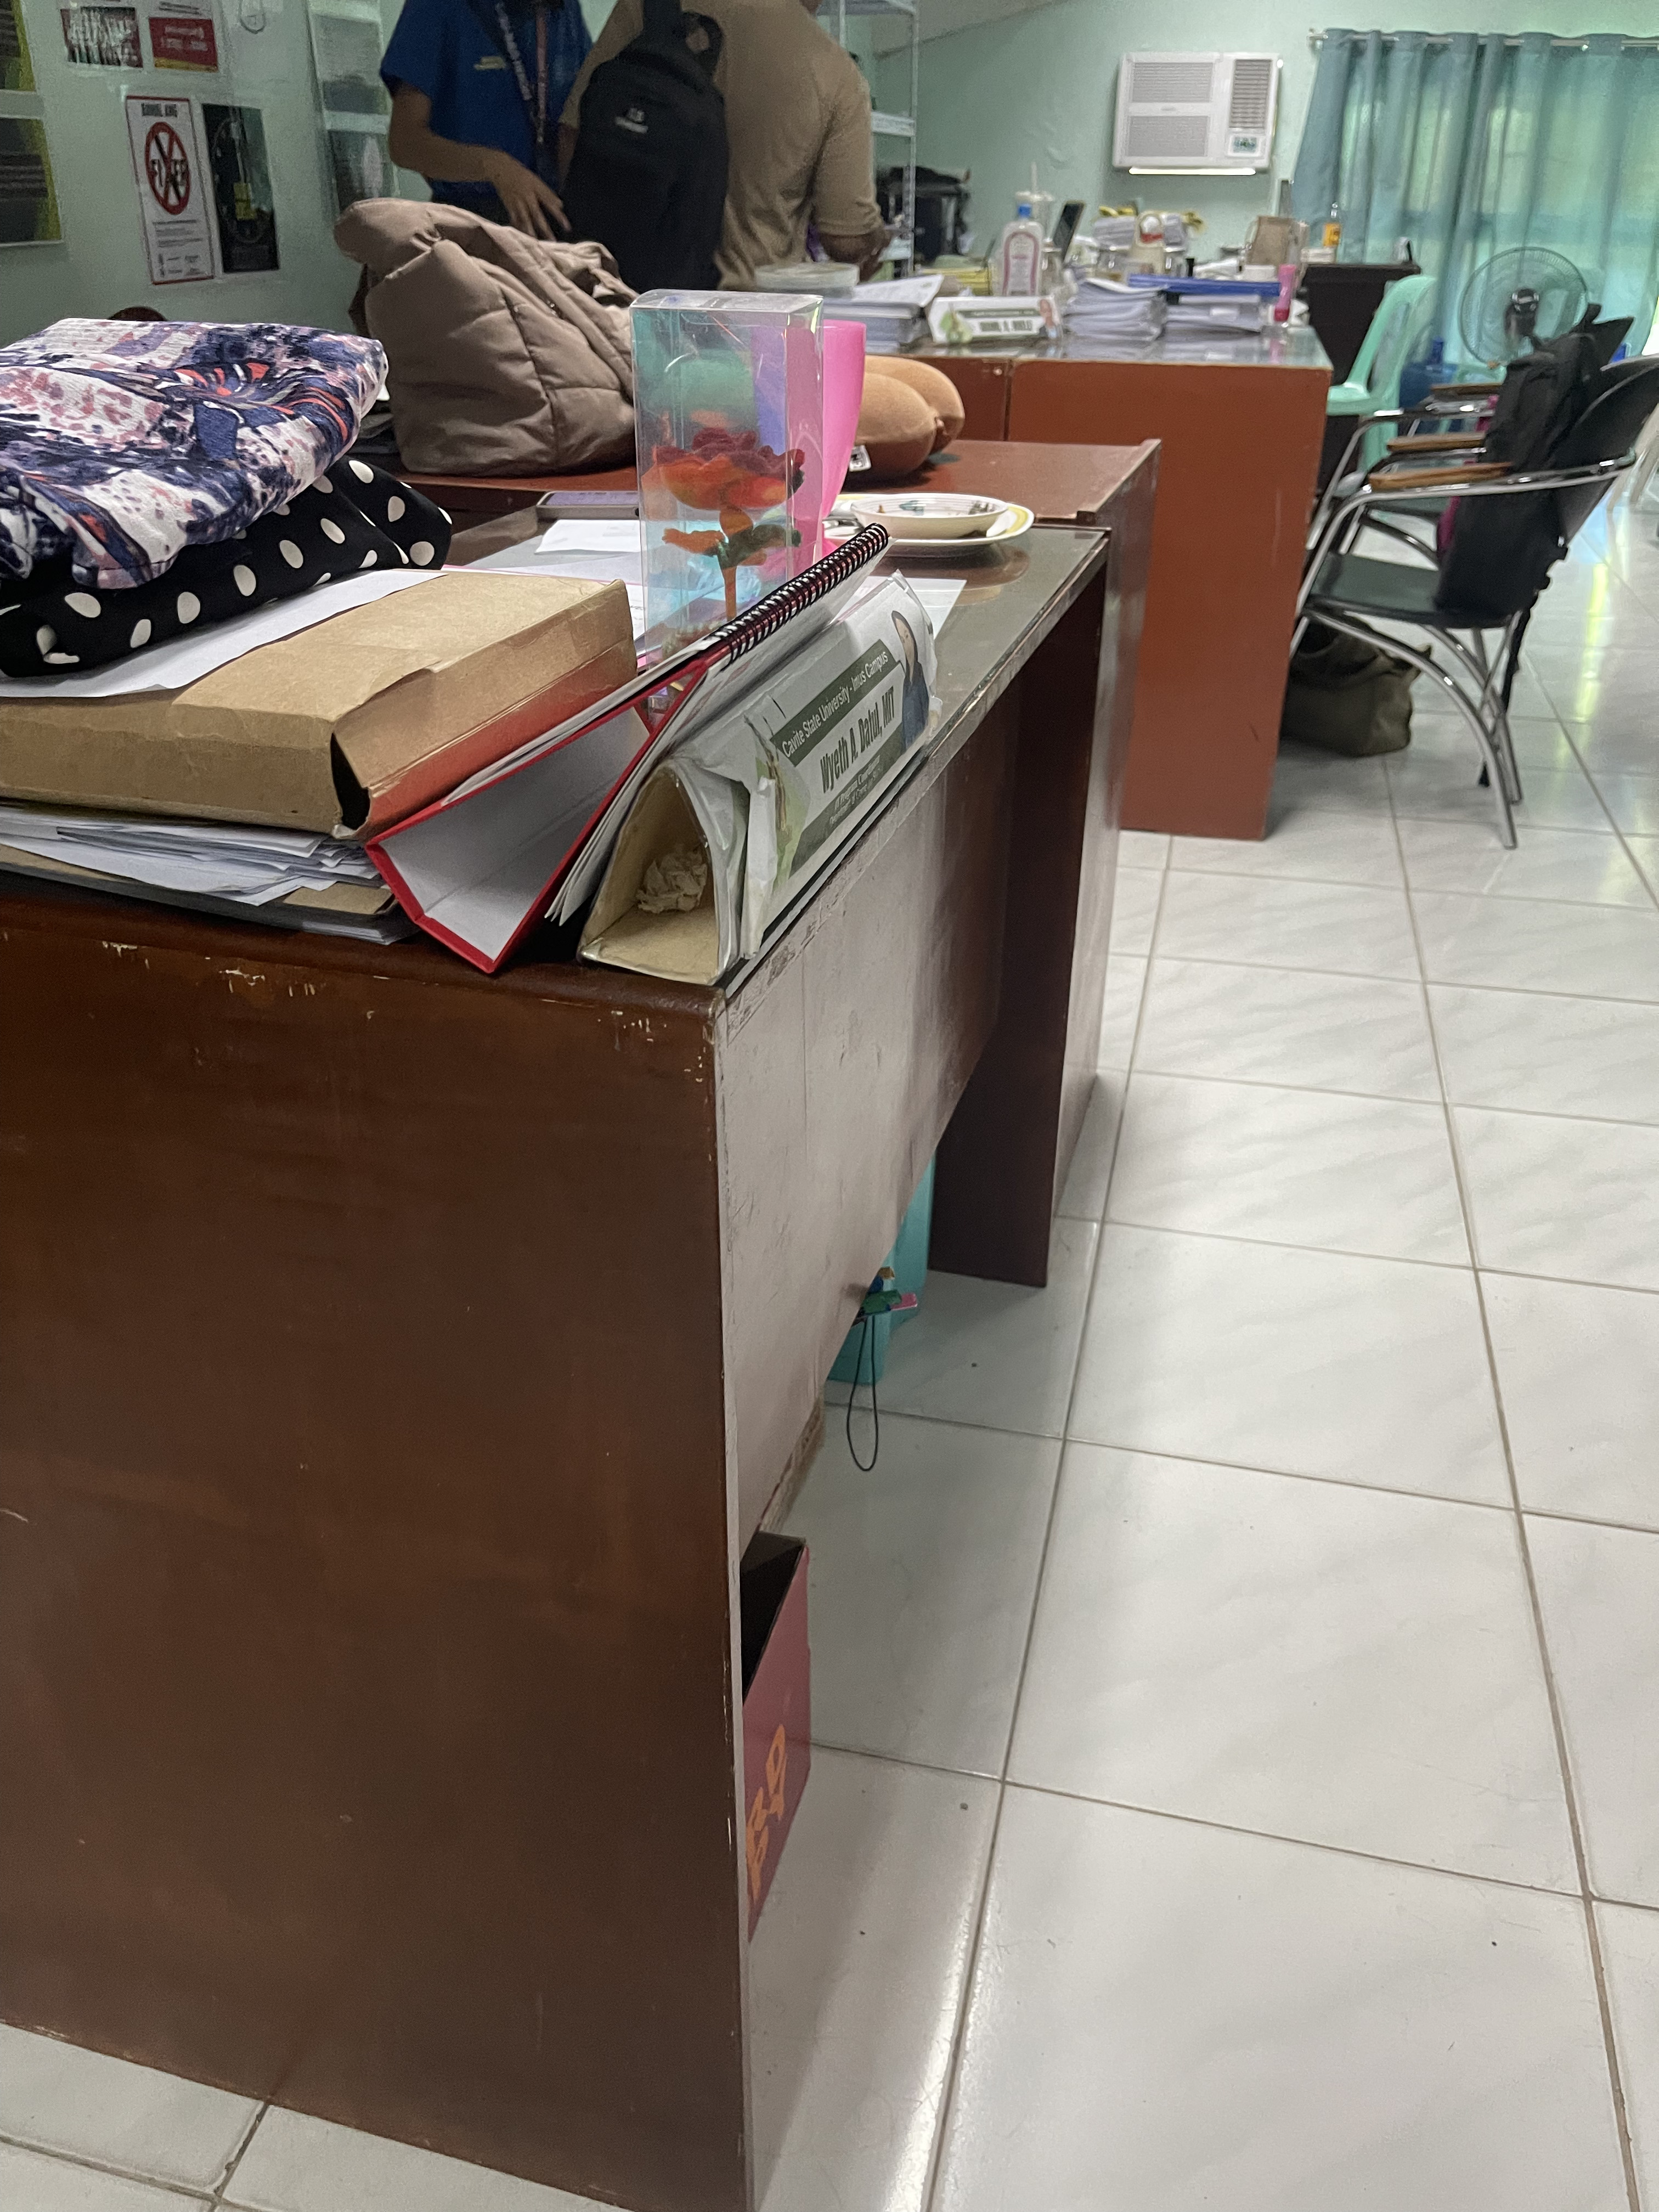table2: (0, 428, 1169, 2212)
